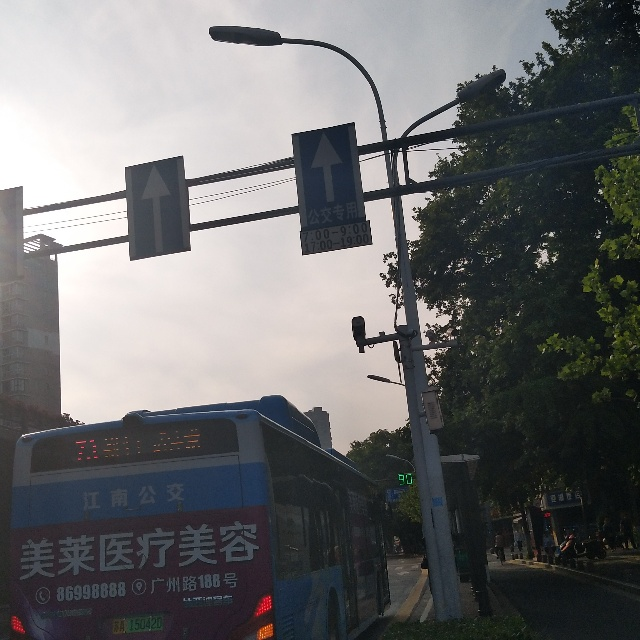straight: (127, 165, 189, 253), (297, 136, 351, 209)
